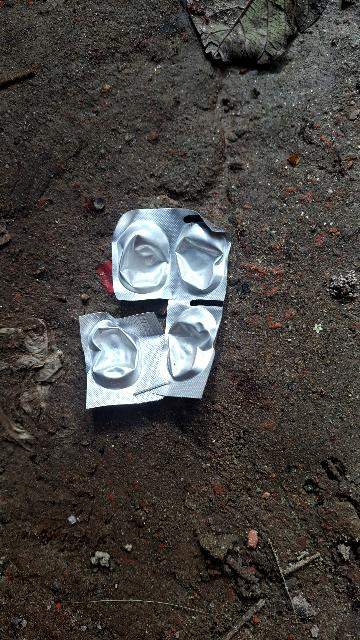medicine: (79, 205, 233, 409)
